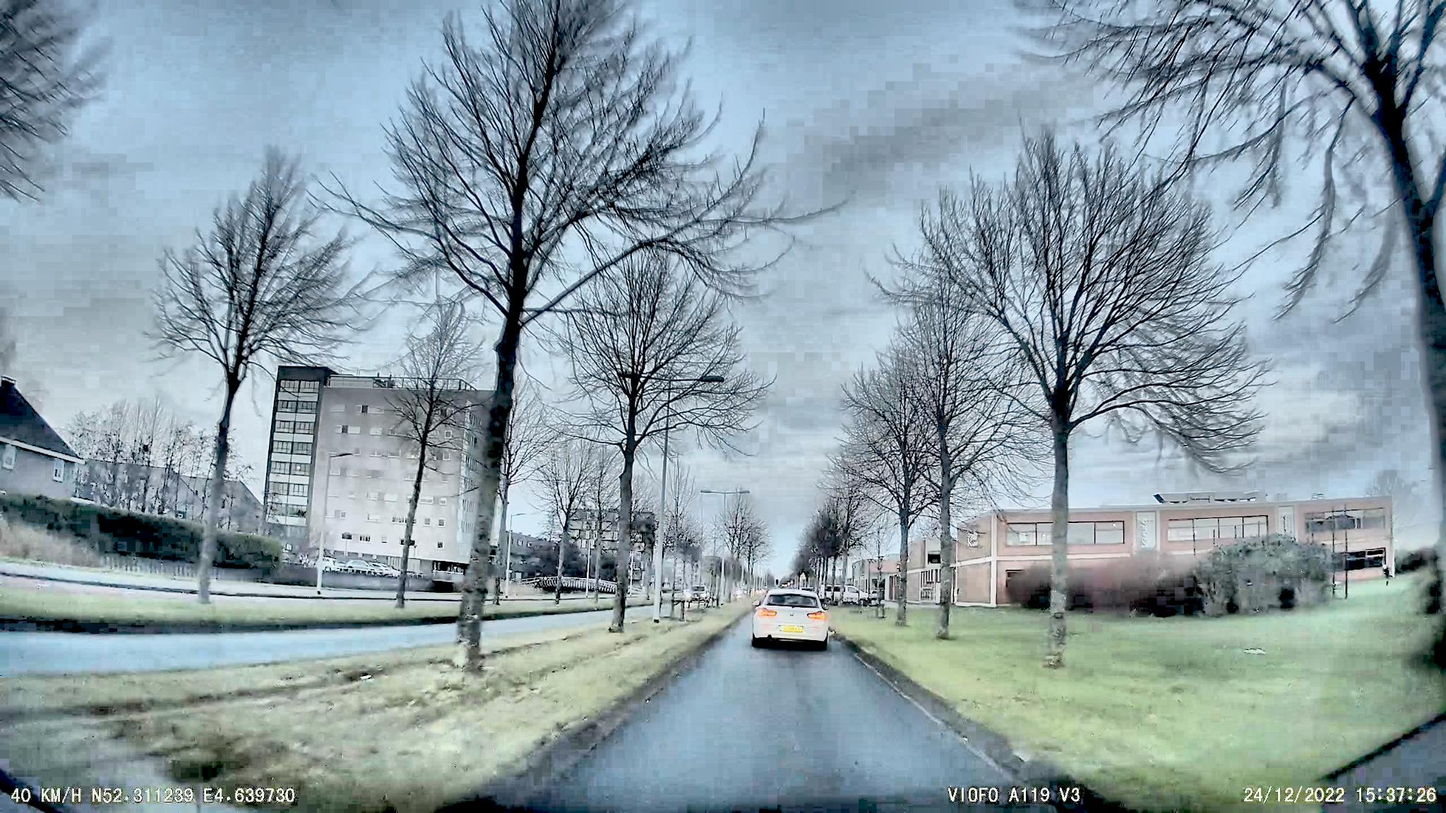Roads: (526, 619, 1072, 813)
